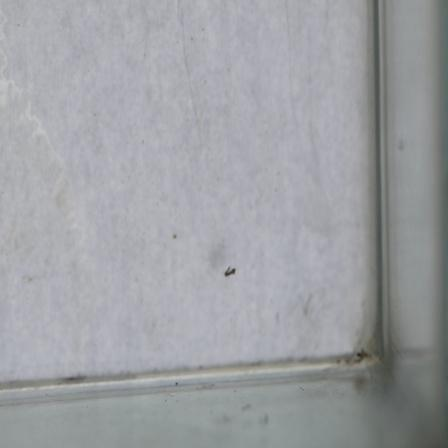Jentik-Nyamuk: (221, 259, 238, 282)
